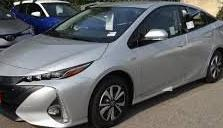Cars: (2, 4, 223, 128)
